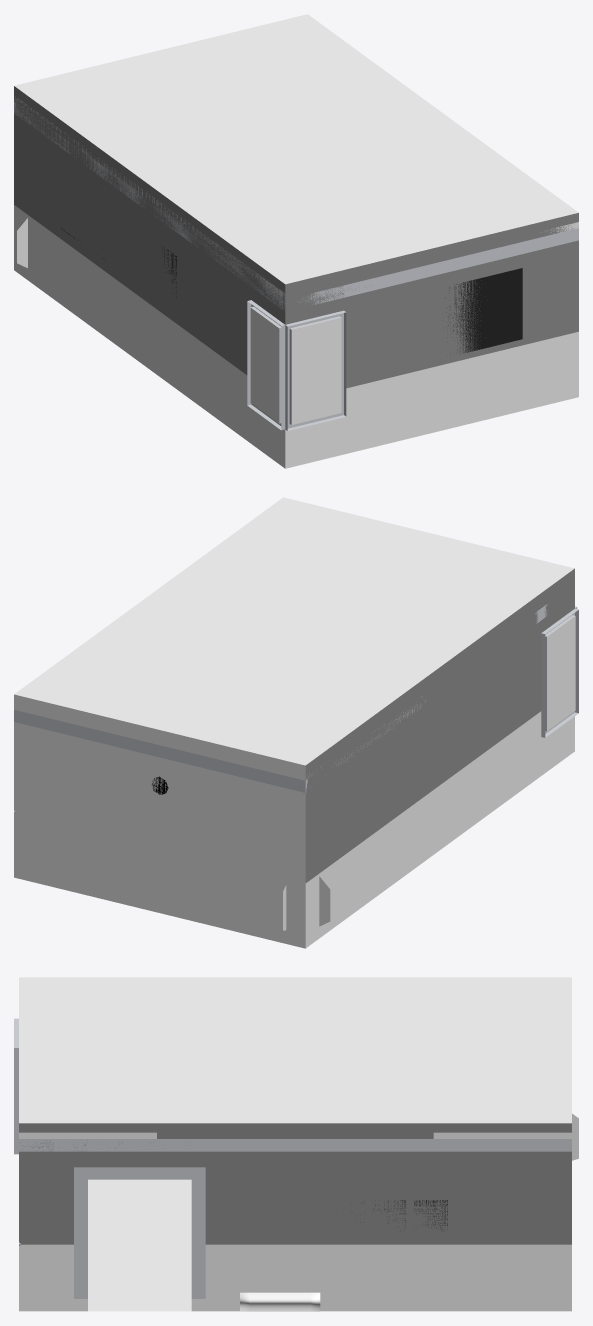
Rendered from ens_boutique1_piece_1763414279663.glb.
The picture shows the model from 3 angles, top to bottom: view 1: azimuth 30°, elevation 25°; view 2: azimuth 150°, elevation 25°; view 3: azimuth 270°, elevation 25°; orthographic projection. The views are drawn at different scales.
Visible parts, largest first — view 1: Plafon, Wall.001, Wall, Window.001, Picture, Window.002, UpperPlafon; view 2: Plafon, Wall.001, Wall.003, Misc, Misc.001, Window.002, UpperPlafon, Cube.001, Cube.011; view 3: Plafon, Wall.002, Floor, UpperPlafon, Sofa.001, Cube.001, Cube, Window.001, SideTegel.102, SideTegel.101, SideTegel.103, SideTegel.070 (+32 smaller).
Part boxes in pixels (<box>): Plafon: <box>14,14,578,284</box>; Wall.001: <box>14,86,285,464</box>; Wall: <box>285,213,578,468</box>; Window.001: <box>285,310,346,430</box>; Picture: <box>445,268,522,352</box>; Window.002: <box>247,300,285,430</box>; UpperPlafon: <box>242,123,350,174</box>; Plafon: <box>14,497,574,765</box>; Wall.001: <box>305,568,574,947</box>; Wall.003: <box>14,694,305,936</box>; Misc: <box>238,777,267,926</box>; Misc.001: <box>52,731,80,881</box>; Window.002: <box>541,608,578,737</box>; UpperPlafon: <box>240,606,348,656</box>; Cube.001: <box>14,703,309,780</box>; Cube.011: <box>162,876,232,909</box>; Plafon: <box>19,977,571,1123</box>; Wall.002: <box>19,1123,571,1298</box>; Floor: <box>88,1179,191,1311</box>; UpperPlafon: <box>243,1035,347,1064</box>; Sofa.001: <box>240,1292,320,1311</box>; Cube.001: <box>433,1132,571,1138</box>; Cube: <box>19,1132,156,1138</box>; Window.001: <box>14,1018,18,1154</box>; SideTegel.102: <box>191,1236,205,1267</box>; SideTegel.101: <box>191,1267,205,1298</box>; SideTegel.103: <box>191,1205,205,1236</box>; SideTegel.070: <box>191,1139,226,1151</box>.
Size of the model in its own units: 5.19 by 3 by 8.17.
Materials: 33 (2 with a texture image).
